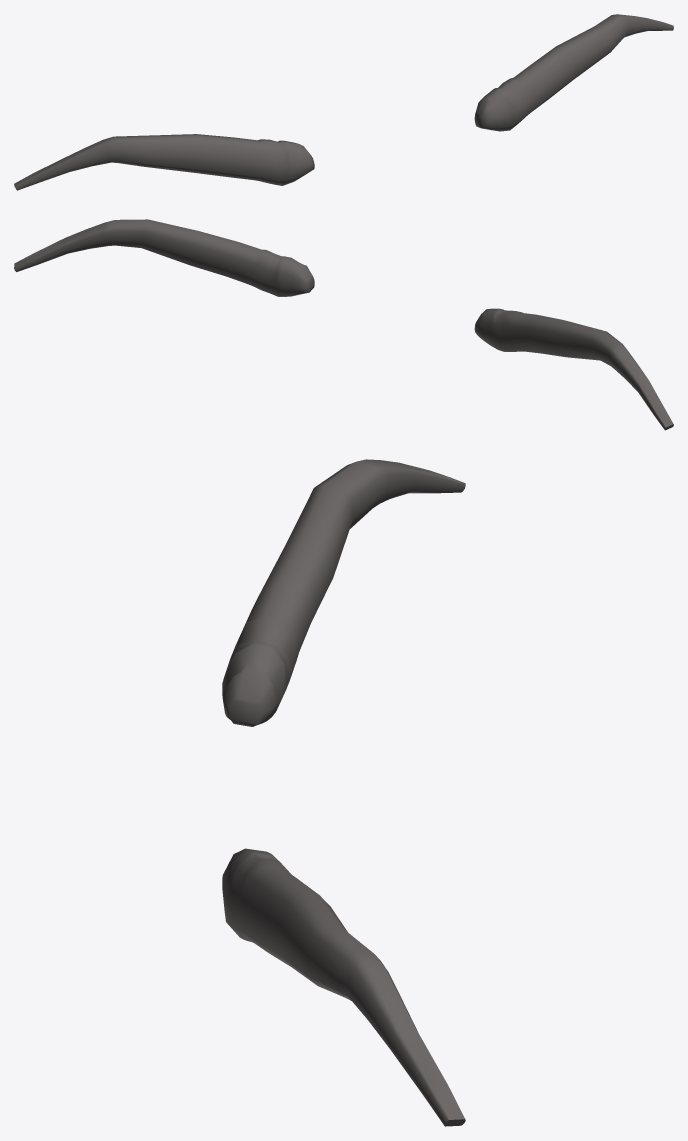
Rendered from Eyebrows_10_04.fbx.
3 renders of one model, top to bottom at view 1: azimuth 30°, elevation 25°; view 2: azimuth 150°, elevation 25°; view 3: azimuth 270°, elevation 25°, orthographic. The views are drawn at different scales.
Visible parts, largest first — view 1: Eyebrows_10_04; view 2: Eyebrows_10_04; view 3: Eyebrows_10_04.
Part boxes in pixels (bbox=[...]): Eyebrows_10_04: bbox=[14, 14, 673, 190]; Eyebrows_10_04: bbox=[14, 219, 673, 430]; Eyebrows_10_04: bbox=[222, 459, 465, 1126].
Size of the model in its own units: 19.53 by 1.75 by 3.13.
